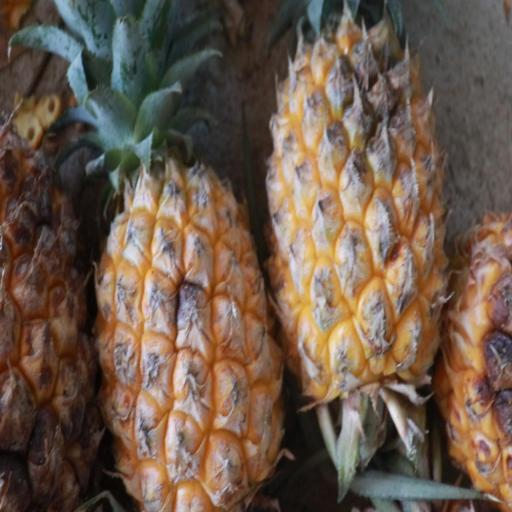Pineapple - v8 v1: (90, 0, 288, 512), (263, 0, 454, 413)
